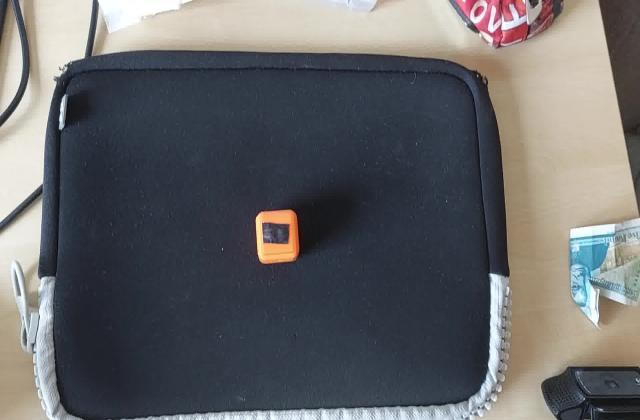black: (261, 222, 291, 246)
sticker: (255, 209, 301, 264)
